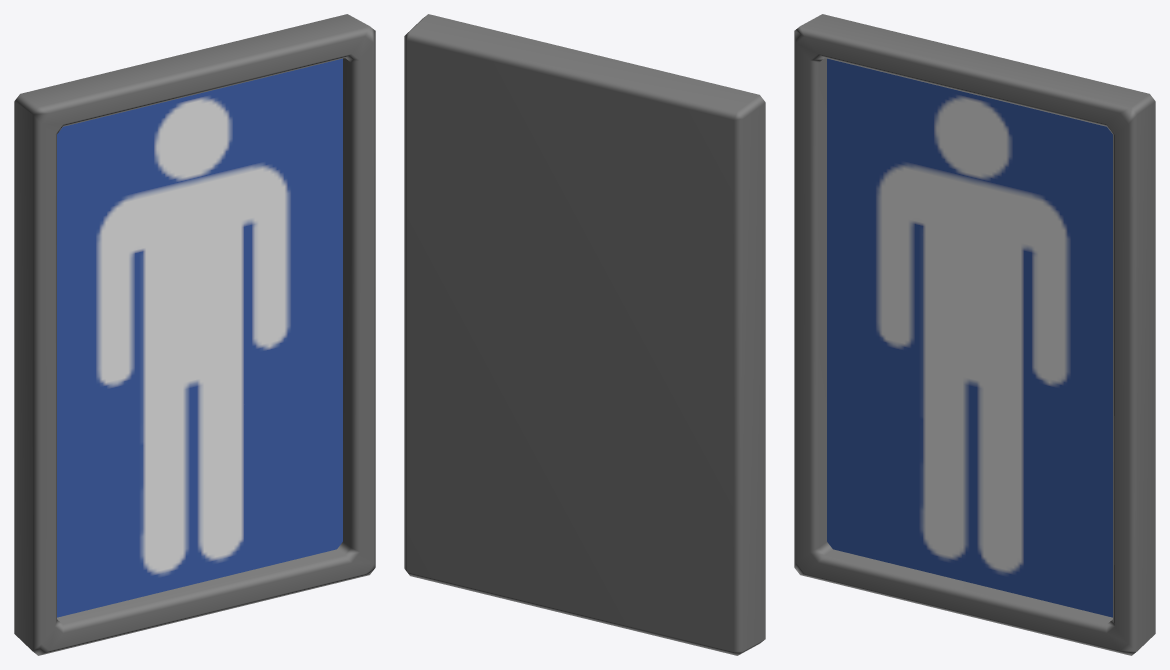
File: SM_sign_toilet_men.fbx
3 views of the same model, side by side, from view 1: azimuth 30°, elevation 25°; view 2: azimuth 150°, elevation 25°; view 3: azimuth 330°, elevation 25° (orthographic).
Visible parts, largest first — view 1: sign_roomname01; view 2: sign_roomname01; view 3: sign_roomname01.
Part boxes in pixels (bbox=[...]): sign_roomname01: bbox=[14, 14, 375, 655]; sign_roomname01: bbox=[404, 14, 765, 655]; sign_roomname01: bbox=[794, 14, 1155, 655].
Bounding box in the file's own units: 7.91 × 12.09 × 1.08.
Materials: 2 (1 with a texture image).
